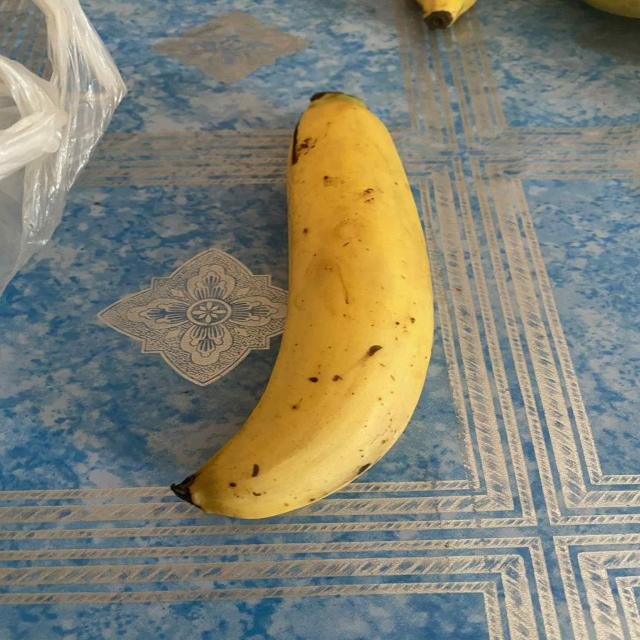Ripe: (172, 81, 546, 537)
